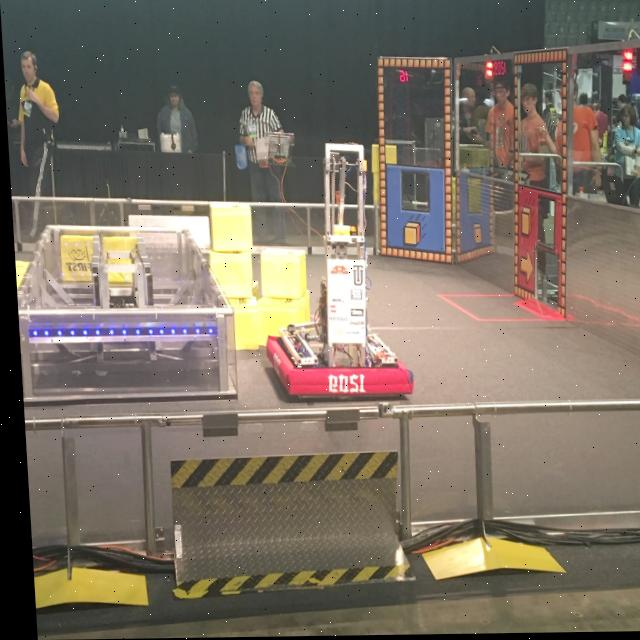robot: (251, 145, 410, 402)
